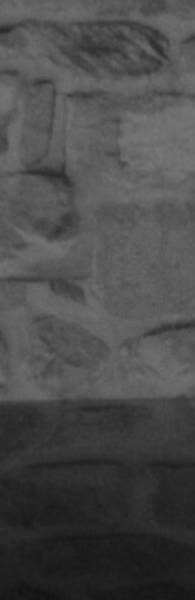water: (0, 399, 195, 600)
